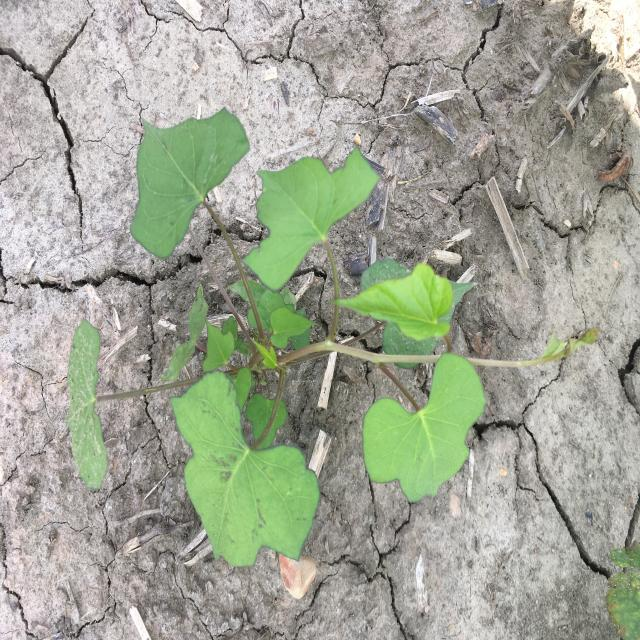MorningGlory: (65, 107, 603, 568)
